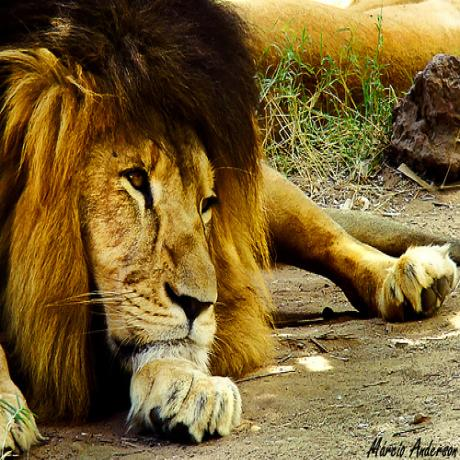Lion: (0, 0, 456, 453)
